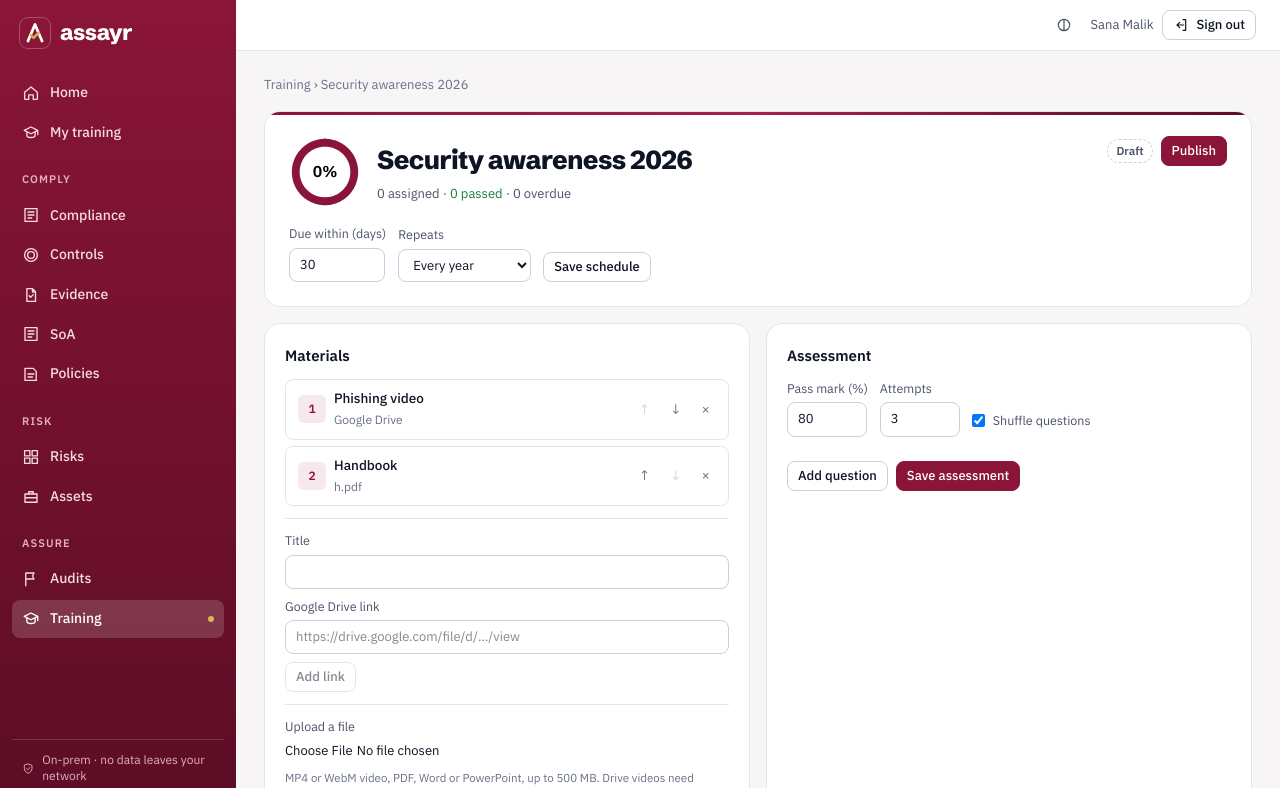
Test: publish and assign to a department
The image size is (1280, 788).
Click the button "Publish".
click(1194, 151)  # box [1160,136,1227,166]
(page scrolled)
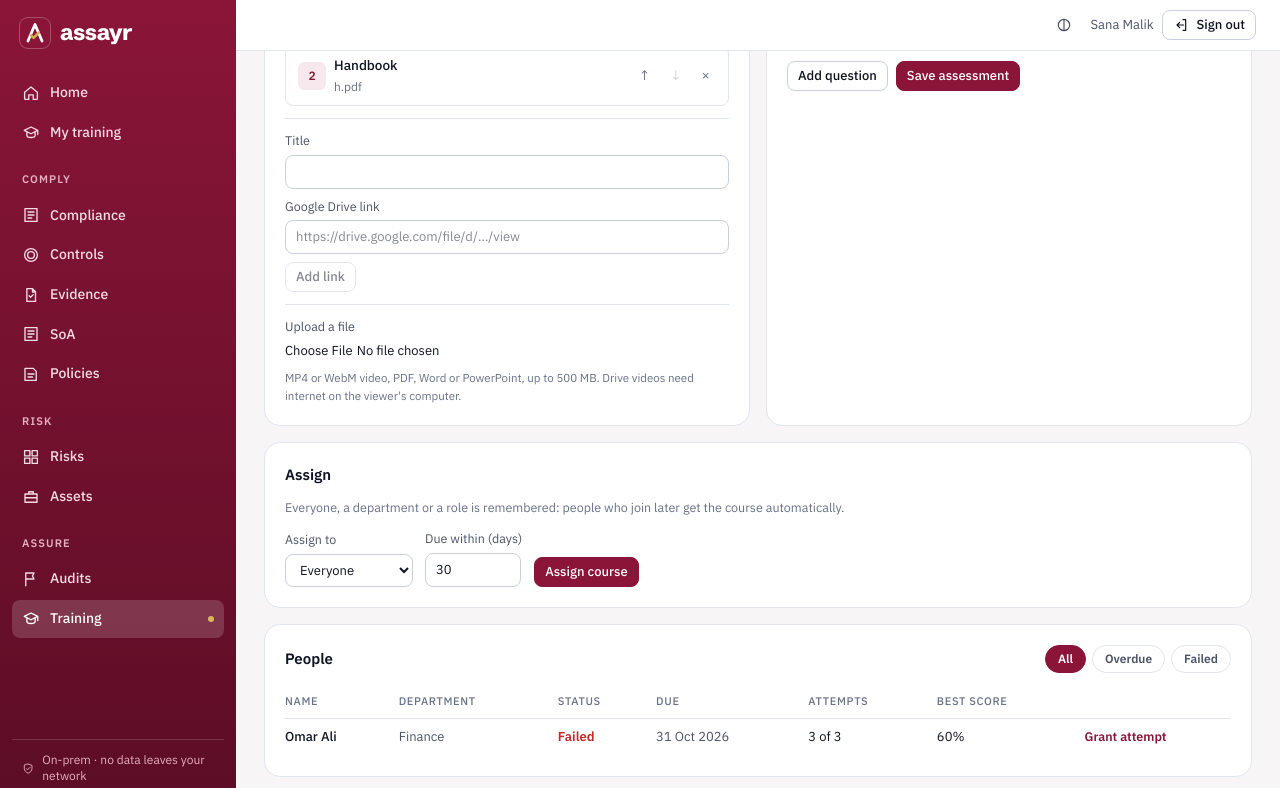
Select "A department" in the dropdown labelled "Assign to" at (349, 570), box [285,554,413,587]
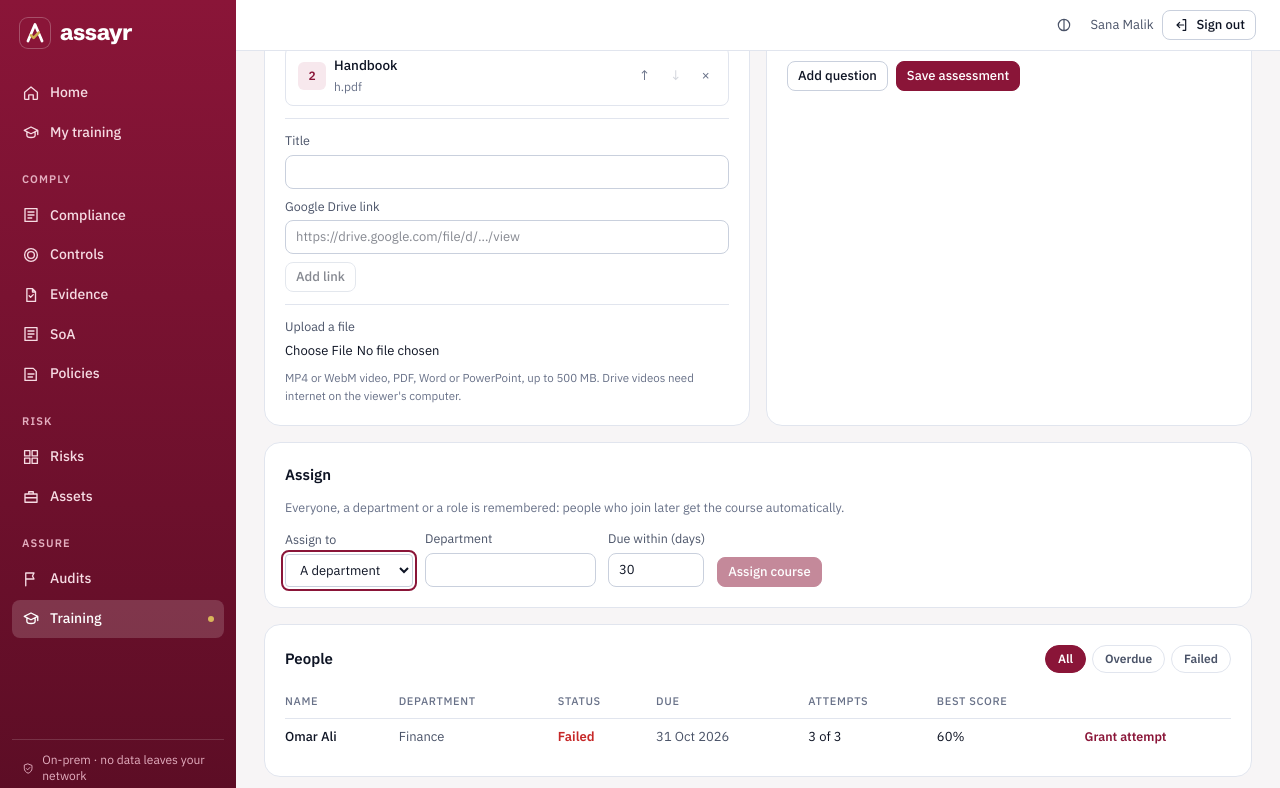
Type "Finance" into the field labelled "Department".
click(510, 570); type("Finance")  # box [425,553,596,587]
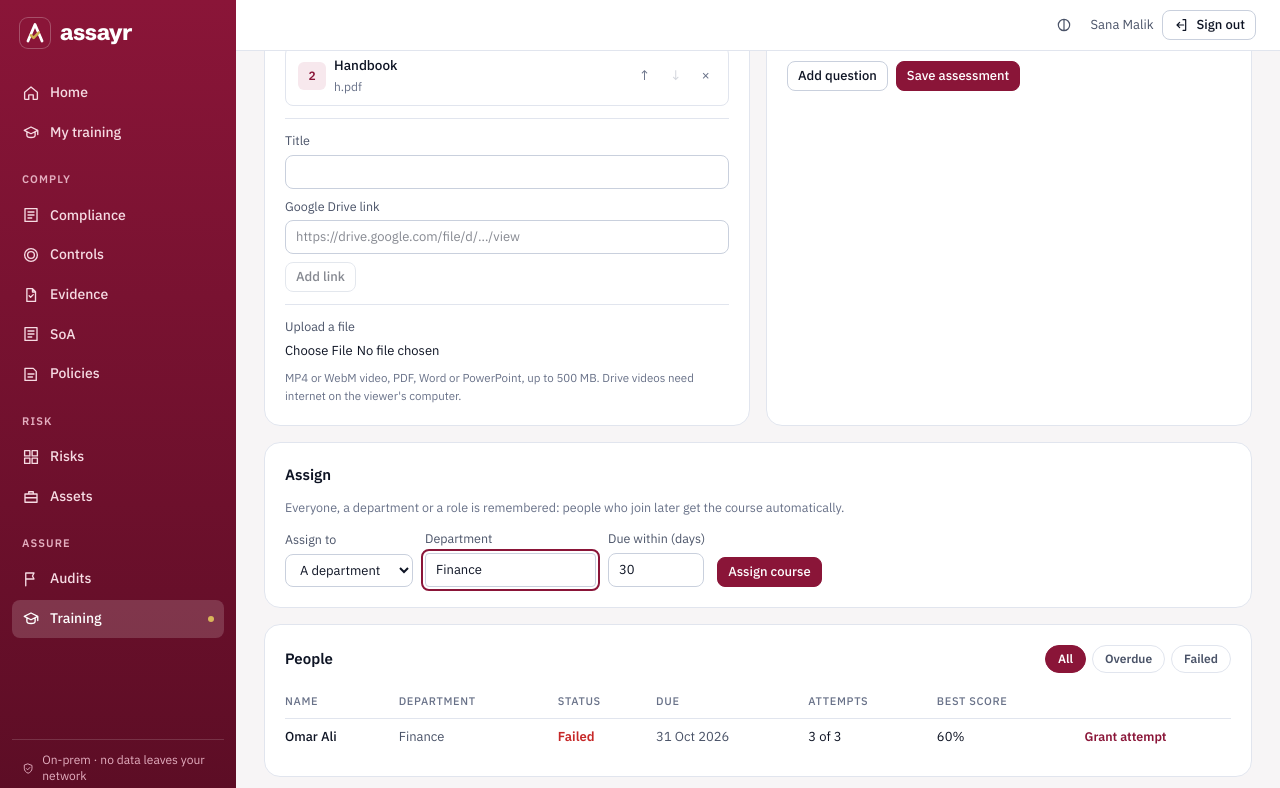
Click the button "Assign course".
click(769, 572)  # box [717,557,822,587]
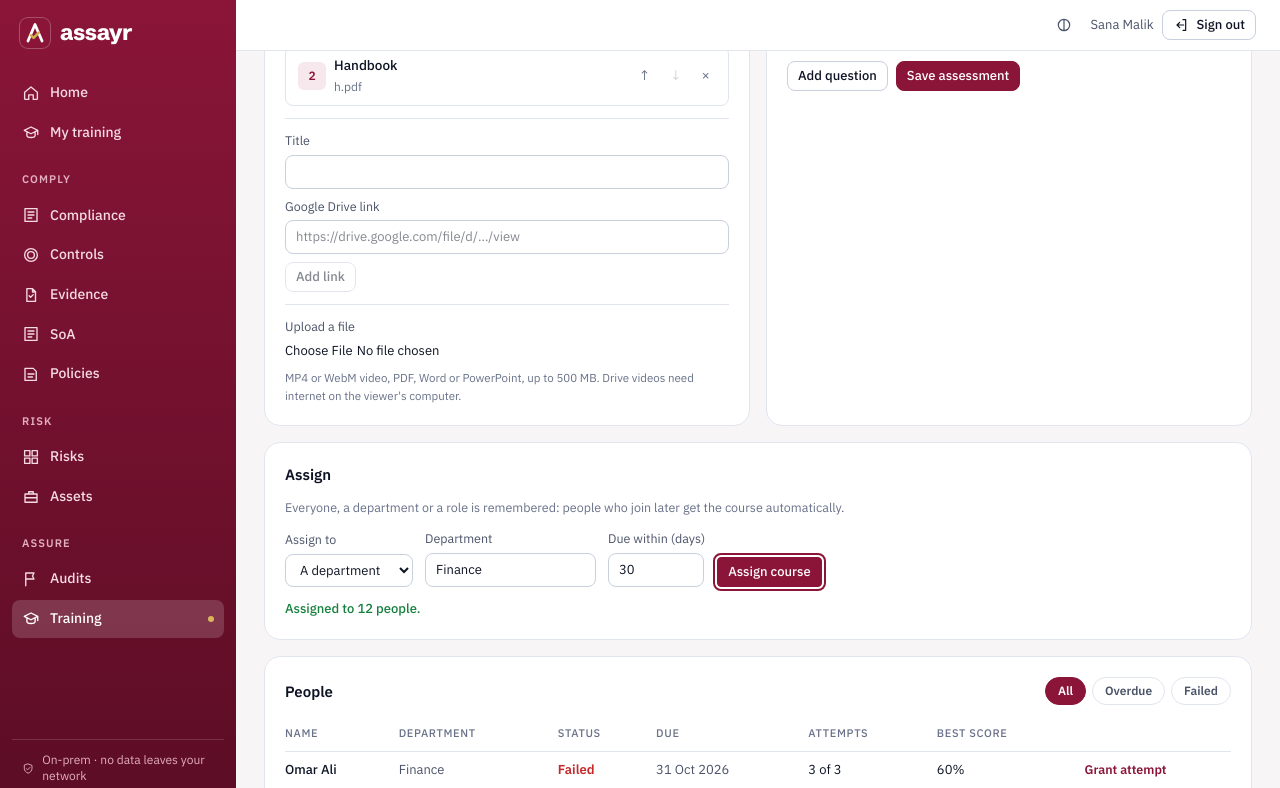
Expected: the text "Assigned to 12 people." is shown, [285,600,420,617]
